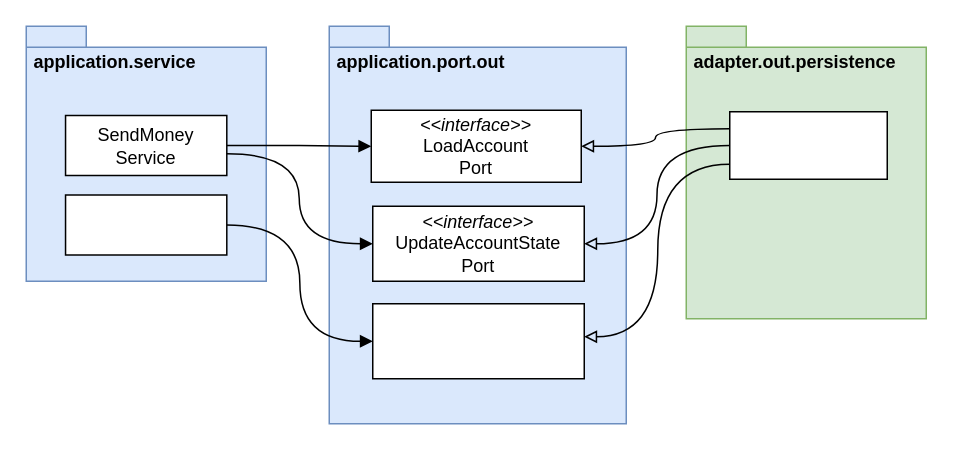
Some shapes in this 953 by 450 pixel diagram are drawn without their labels. The shapes that lost their labels are listed below. From the top down, each one's centre as x and y in pixels, then its label:
point (807, 144): Persistence Adapter
point (145, 224): RegisterAccount Service
point (477, 340): <<interface>> CreateAccount Port
